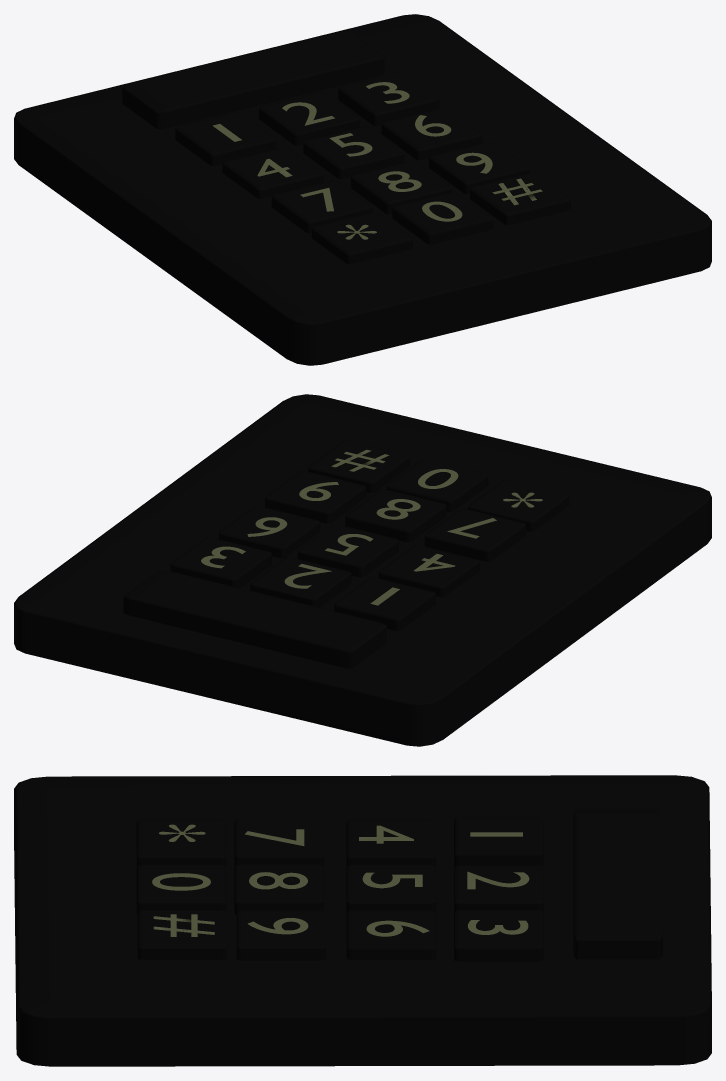
File: keypad.fbx
The picture shows the model from 3 angles, top to bottom: view 1: azimuth 30°, elevation 25°; view 2: azimuth 150°, elevation 25°; view 3: azimuth 270°, elevation 25°; orthographic projection. The views are drawn at different scales.
Visible parts, largest first — view 1: Cube, TDFTFTGTG, Cube.013, Cube.024, Cube.001; view 2: Cube, TDFTFTGTG, Cube.013, Cube.024, Cube.001; view 3: Cube, TDFTFTGTG, Cube.013, Cube.024, Cube.001.
Boxes of the visible parts, x1,y1,x2,y2 form: Cube: [14, 14, 711, 365]; TDFTFTGTG: [175, 72, 570, 264]; Cube.013: [122, 31, 384, 128]; Cube.024: [213, 82, 542, 239]; Cube.001: [303, 126, 404, 179]; Cube: [14, 394, 711, 746]; TDFTFTGTG: [170, 440, 569, 630]; Cube.013: [123, 570, 386, 668]; Cube.024: [201, 449, 542, 605]; Cube.001: [297, 524, 398, 577]; Cube: [14, 775, 711, 1066]; TDFTFTGTG: [136, 816, 543, 961]; Cube.013: [573, 809, 662, 959]; Cube.024: [152, 824, 529, 936]; Cube.001: [346, 865, 435, 913].
Bounding box in the file's own units: 551 × 78.5 × 667.
